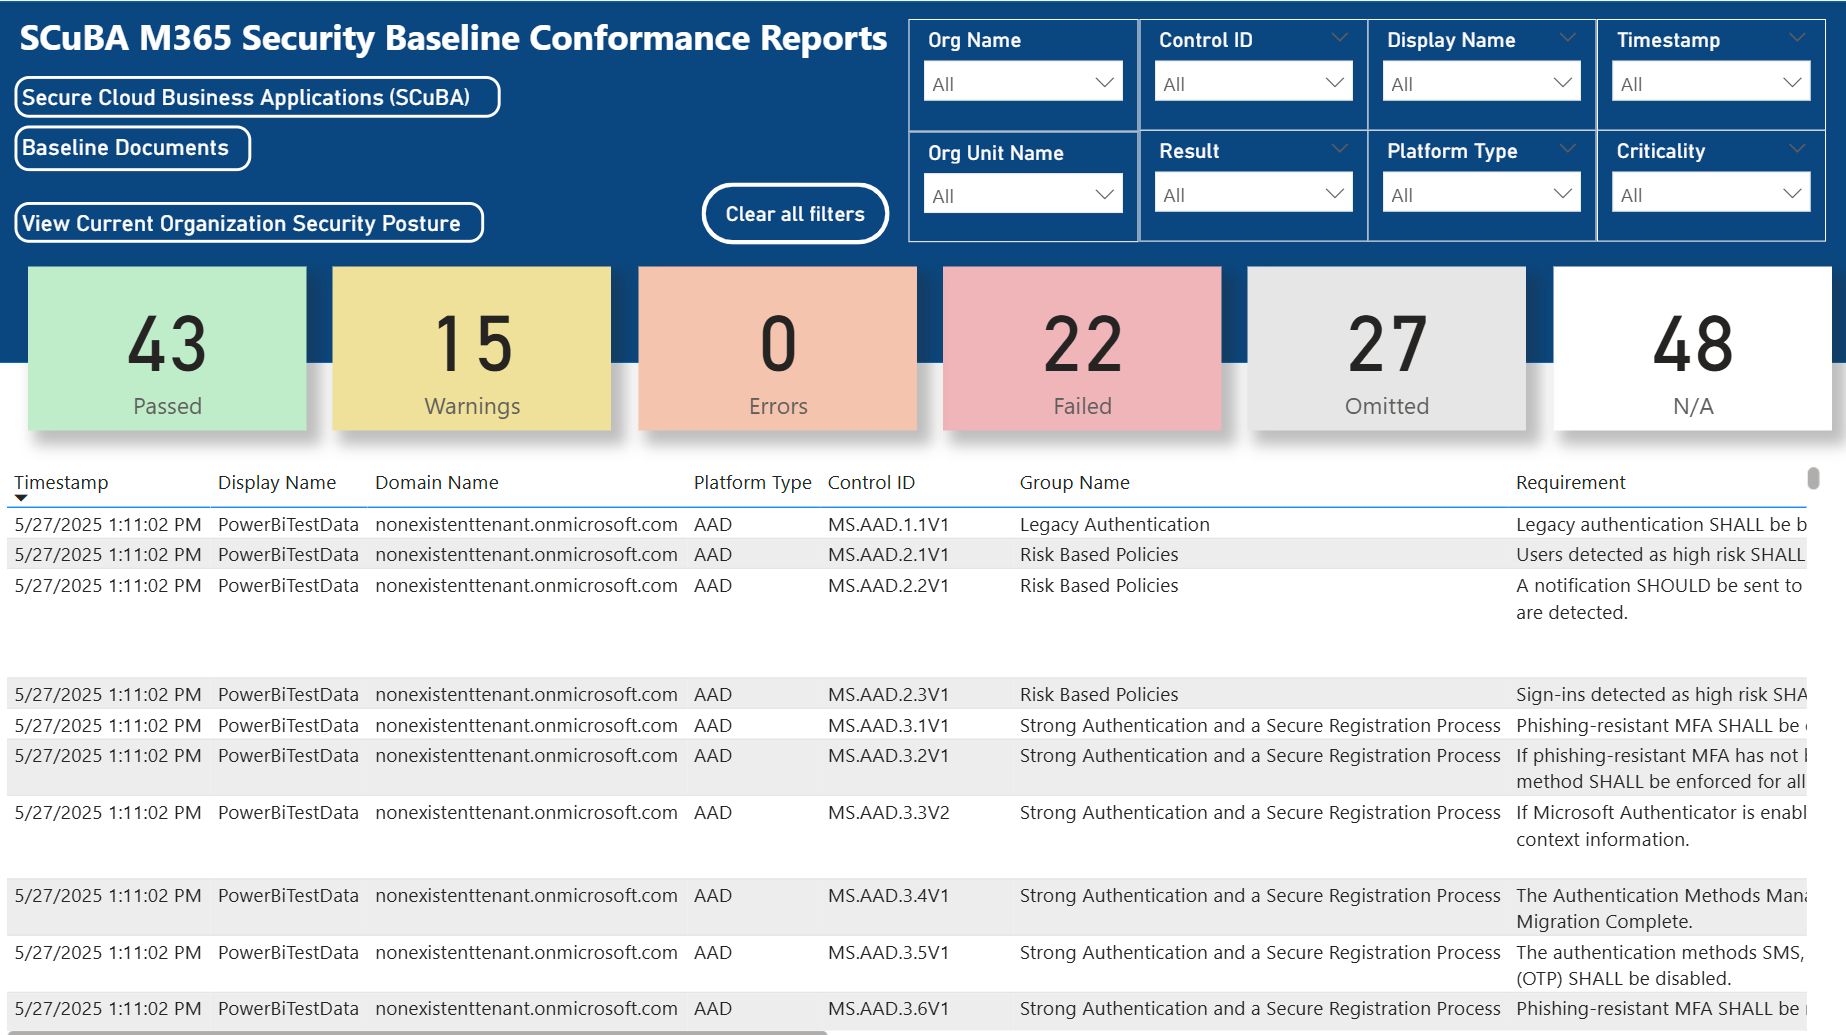

The page's visual inventory and layout, read from the dashboard file:
{"tool":"powerbi","page":{"name":"Security Baseline Conformance Reports","canvas":[1280,720],"ordinal":0},"visuals":[{"type":"shape","title":"Header Shape","box":[0,0,1279.7,249],"z":0},{"type":"slicer","fields":{"Values":["Power BI.Value.Controls.Result"]},"box":[783.9,88.8,157.4,76.4],"z":1000},{"type":"tableEx","fields":{"Values":["Power BI.MetaData.TimestampZulu","Power BI.MetaData.DisplayName","Power BI.MetaData.DomainName","Power BI.Platform Type","Power BI.Value.Controls.Control ID","Power BI.Value.GroupName","Power BI.Value.Controls.Requirement","Power BI.Value.Controls.Result","Power BI.Value.Controls.Criticality","Power BI.Value.Controls.Details","Power BI.ConfigFileUsed","Power BI.HasExclusion"]},"box":[0,313.9,1256.8,406.7],"z":2000},{"type":"slicer","fields":{"Values":["Power BI.Platform Type"]},"box":[941.3,88.8,157.4,76.4],"z":3000},{"type":"slicer","fields":{"Values":["Power BI.Value.Controls.Criticality"]},"box":[1098.7,88.8,157.4,76.4],"z":4000},{"type":"slicer","fields":{"Values":["Power BI.MetaData.TimestampZulu"]},"box":[1098.7,12.5,157.4,76.4],"z":5000},{"type":"slicer","fields":{"Values":["Power BI.Value.Controls.Control ID"]},"box":[783.9,12.5,157.4,76.4],"z":6000},{"type":"textbox","box":[0,1.8,626,98.5],"z":7000},{"type":"actionButton","title":"Secure Cloud Business Applications (SCuBA)","box":[11.6,51,334,28.7],"z":8000},{"type":"actionButton","title":"Baseline Documents","box":[11.6,86,163,31.3],"z":9000},{"type":"slicer","fields":{"Values":["Power BI.MetaData.DisplayName"]},"box":[941.3,12.5,157.4,76.4],"z":10000},{"type":"actionButton","box":[483.4,124.7,129.2,42.6],"z":11000},{"type":"slicer","fields":{"Values":["Power BI.Org Name"]},"box":[625.9,12.1,158,77.2],"z":12000},{"type":"slicer","fields":{"Values":["Power BI.Org Unit Name"]},"box":[625.9,89.2,158,76],"z":13000},{"type":"card","title":"Teams Tests Passed","fields":{"Values":["Power BI.Tests Passed"]},"box":[20.6,182.7,191.6,112.8],"z":14000},{"type":"card","title":"Teams Tests Failed","fields":{"Values":["Power BI.Tests Failed"]},"box":[649.3,182.7,191.6,112.8],"z":15000},{"type":"card","title":"Teams Warnings","fields":{"Values":["Power BI.Warnings"]},"box":[230.1,182.7,191.6,112.8],"z":16000},{"type":"card","title":"Teams Manual Checks Needed","fields":{"Values":["Power BI.ErrorTotal"]},"box":[439.7,182.7,191.6,112.8],"z":17000},{"type":"card","title":"Teams Manual Checks Needed","fields":{"Values":["Power BI.N/A"]},"box":[1068.4,182.7,191.6,112.8],"z":18000},{"type":"card","title":"Teams Manual Checks Needed","fields":{"Values":["Power BI.Omitted"]},"box":[858.8,182.7,191.6,112.8],"z":19000},{"type":"actionButton","title":"View Current Organization Security Posture","box":[11.6,137.9,322.4,27.8],"z":20000},{"type":"actionButton","box":[11.6,134.3,324.2,34],"z":21000},{"type":"actionButton","box":[11.6,48.4,334,31.3],"z":22000},{"type":"actionButton","box":[8.3,85.4,167.6,33.3],"z":23000}]}

Visuals, with their boxes in screenshot pixels (x1, y1, x2, y2), scaled from the page's 1280x720 canvas onto the 1846x1035 screenshot:
"Header Shape" shape: crop(0, 0, 1845, 358)
slicer - Power BI.Value.Controls.Result: crop(1131, 128, 1358, 237)
tableEx - Power BI.MetaData.TimestampZulu x Power BI.MetaData.DisplayName: crop(0, 451, 1813, 1034)
slicer - Power BI.Platform Type: crop(1358, 128, 1585, 237)
slicer - Power BI.Value.Controls.Criticality: crop(1585, 128, 1812, 237)
slicer - Power BI.MetaData.TimestampZulu: crop(1585, 18, 1812, 128)
slicer - Power BI.Value.Controls.Control ID: crop(1131, 18, 1358, 128)
textbox: crop(0, 3, 903, 144)
"Secure Cloud Business Applications (SCuBA)" actionButton: crop(17, 73, 498, 115)
"Baseline Documents" actionButton: crop(17, 124, 252, 169)
slicer - Power BI.MetaData.DisplayName: crop(1358, 18, 1585, 128)
actionButton: crop(697, 179, 883, 240)
slicer - Power BI.Org Name: crop(903, 17, 1131, 128)
slicer - Power BI.Org Unit Name: crop(903, 128, 1131, 237)
"Teams Tests Passed" card: crop(30, 263, 306, 425)
"Teams Tests Failed" card: crop(936, 263, 1213, 425)
"Teams Warnings" card: crop(332, 263, 608, 425)
"Teams Manual Checks Needed" card: crop(634, 263, 910, 425)
"Teams Manual Checks Needed" card: crop(1541, 263, 1817, 425)
"Teams Manual Checks Needed" card: crop(1239, 263, 1515, 425)
"View Current Organization Security Posture" actionButton: crop(17, 198, 482, 238)
actionButton: crop(17, 193, 484, 242)
actionButton: crop(17, 70, 498, 115)
actionButton: crop(12, 123, 254, 171)
